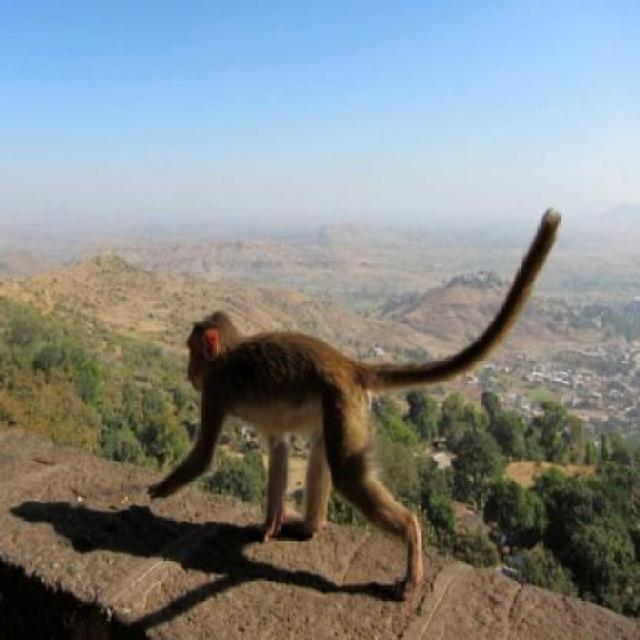Monkey: (138, 226, 639, 639)
